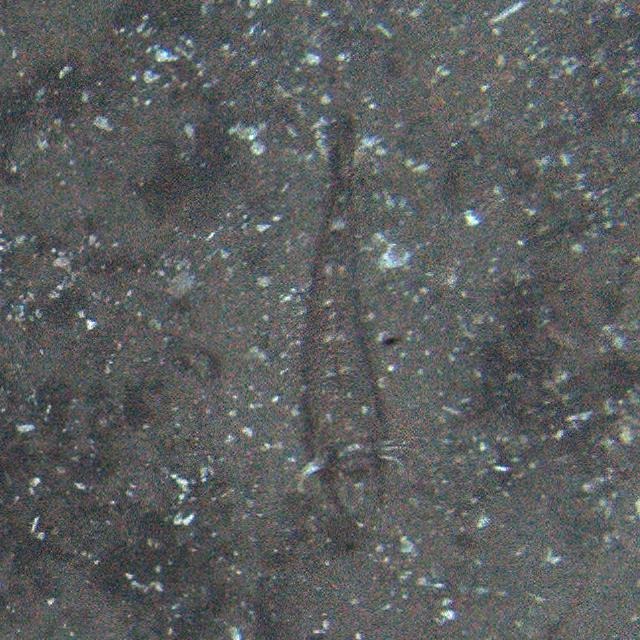roundfish: (304, 140, 394, 518)
